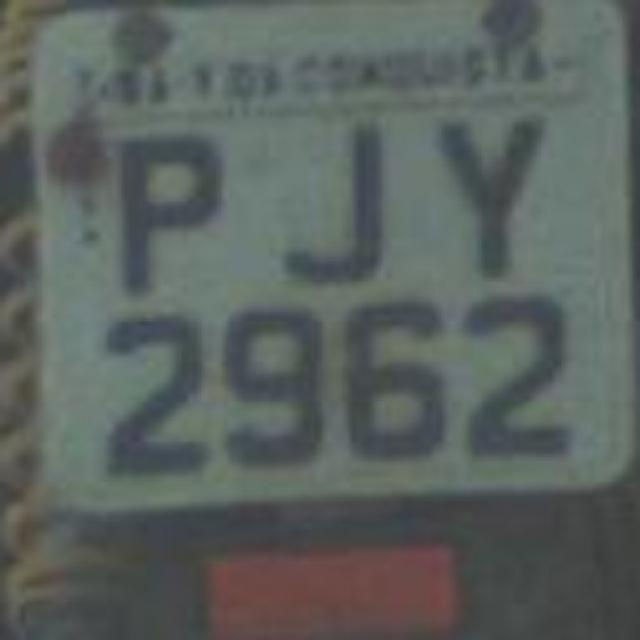2: (432, 275, 600, 480)
6: (316, 272, 472, 480)
9: (192, 280, 352, 475)
J: (260, 109, 415, 296)
P: (104, 108, 228, 312)
Y: (420, 92, 565, 280)
